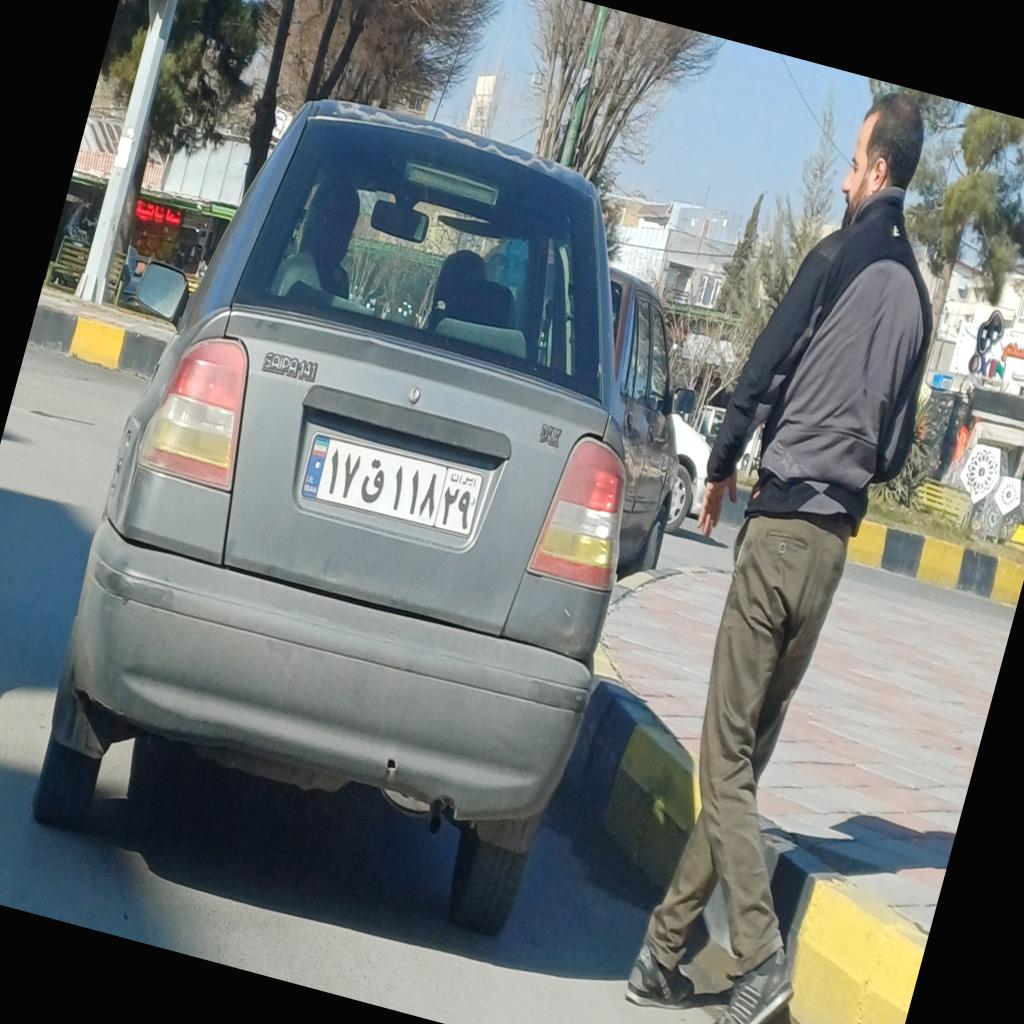Plates: (300, 432, 486, 540)
